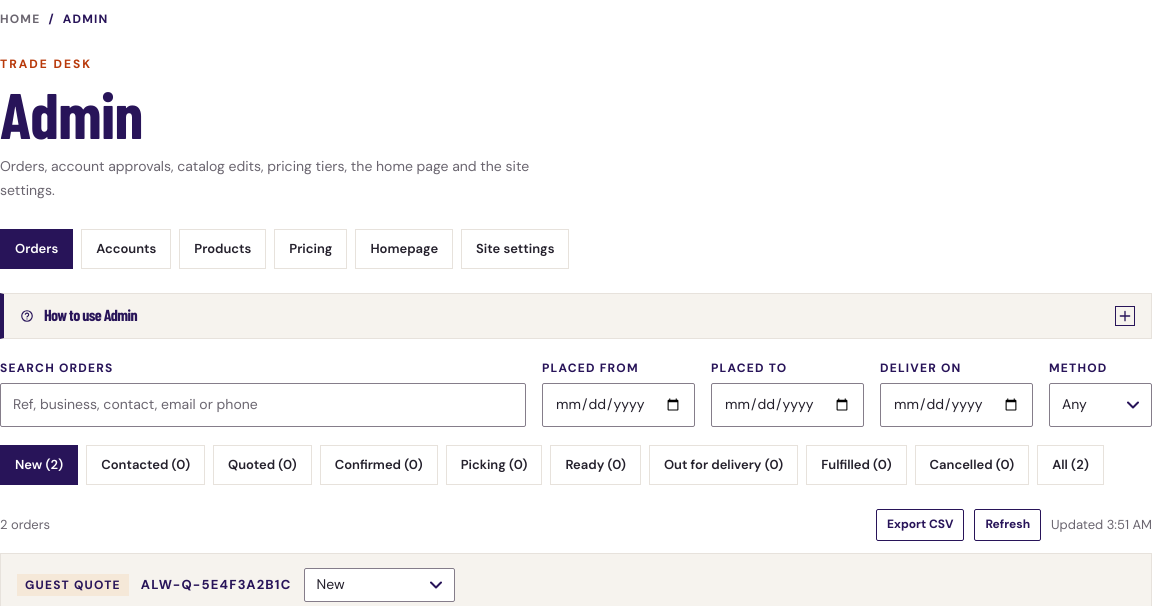
Admin orders with the quote workflow › says why a save was refused, and keeps the editor open
The image size is (1152, 606).
Click the button "All (2)" at point(1070, 465), box [1037,445,1104,485]
(page scrolled)
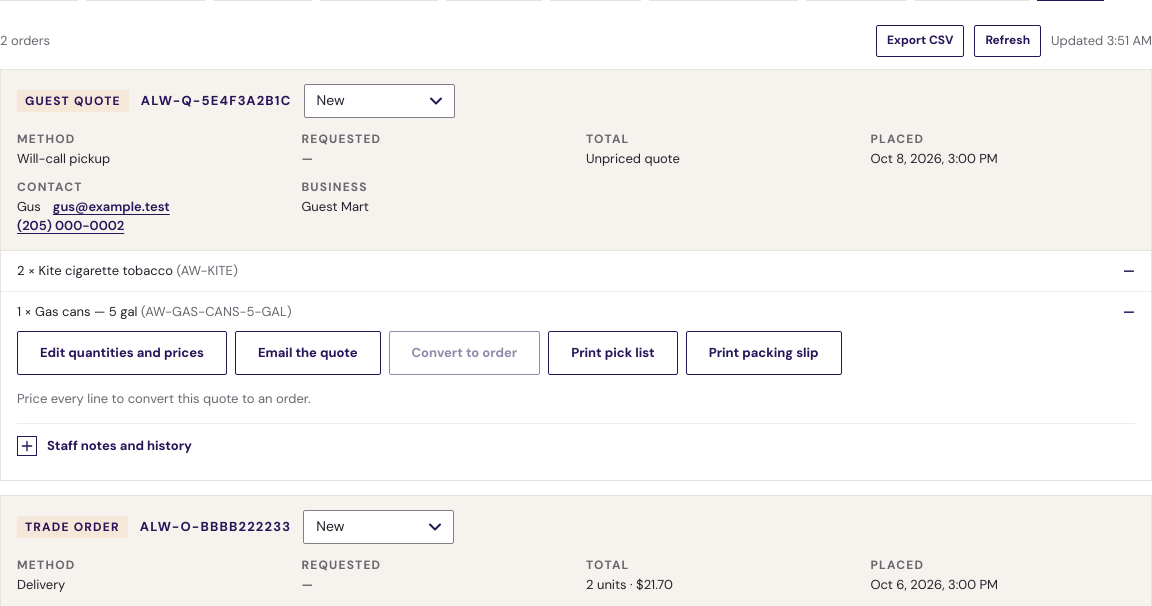
Click the button "Edit quantities and prices" at point(122, 353), box [17,331,227,375]
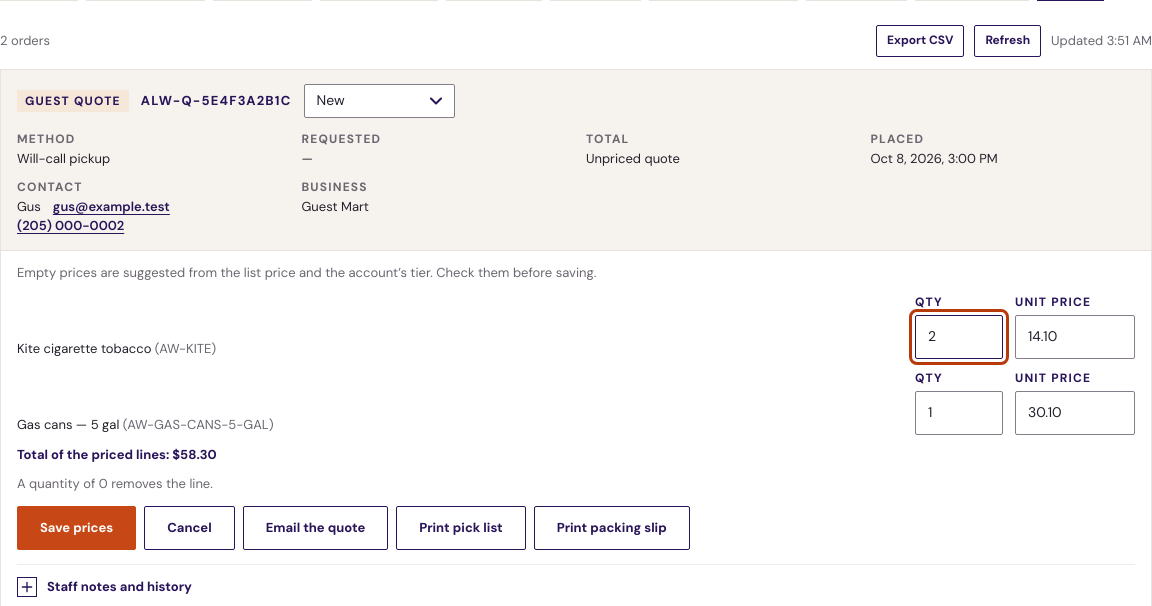
Replace the text in the field named "Quantity for Kite cigarette tobacco" with "two" at point(959, 337), box [915,315,1003,359]
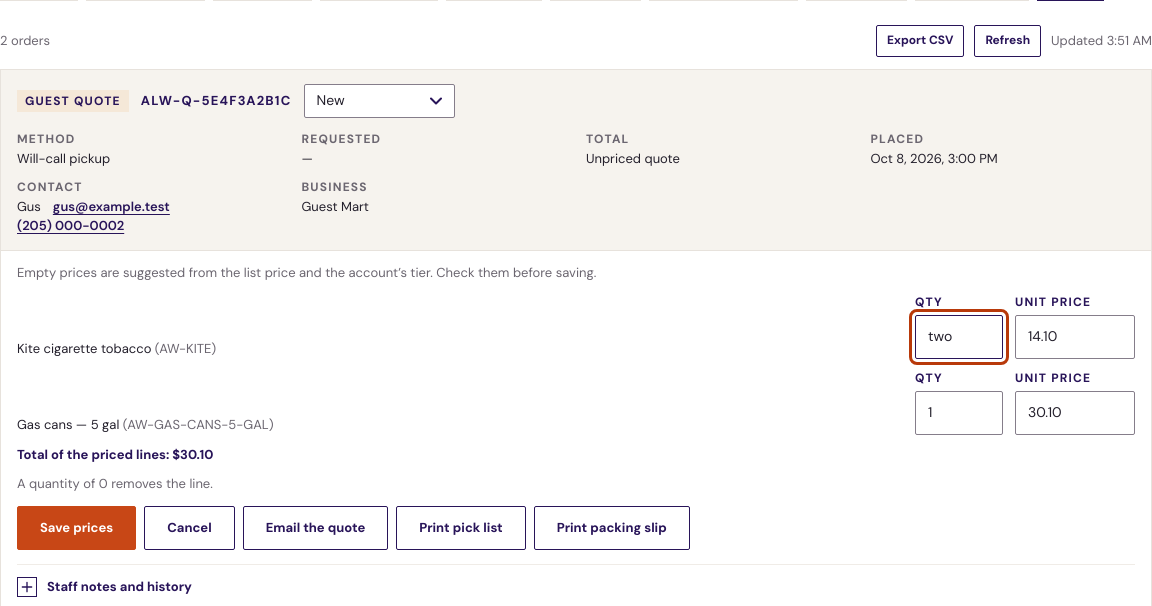
Click the button "Save prices" at point(77, 528), box [17,506,136,550]
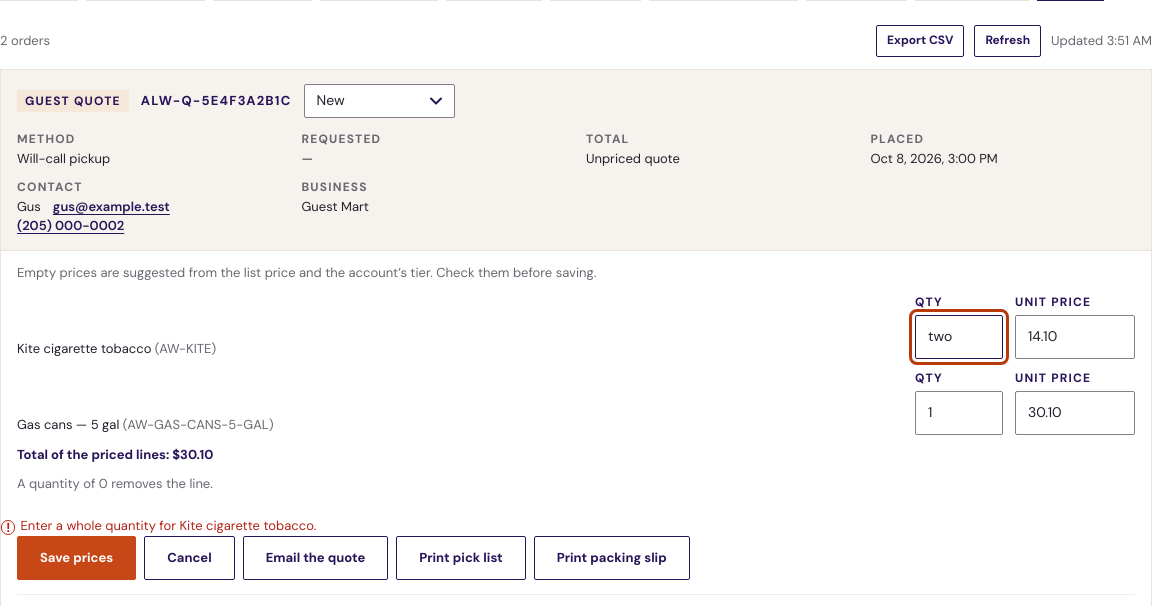
Expected: the message reads "Enter a whole quantity for Kite cigarette tobacco.", [20,517,316,534]
Replace the text in the field named "Quantity for Kite cigarette tobacco" with "2" at point(959, 337), box [915,315,1003,359]
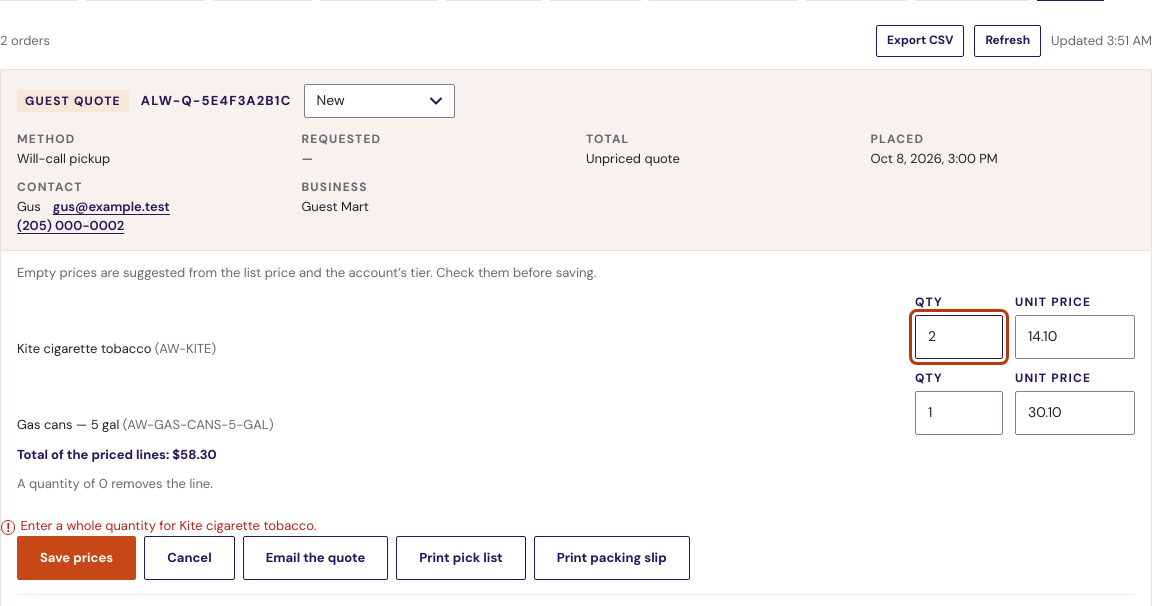
Click the button "Save prices" at point(77, 558), box [17,536,136,580]
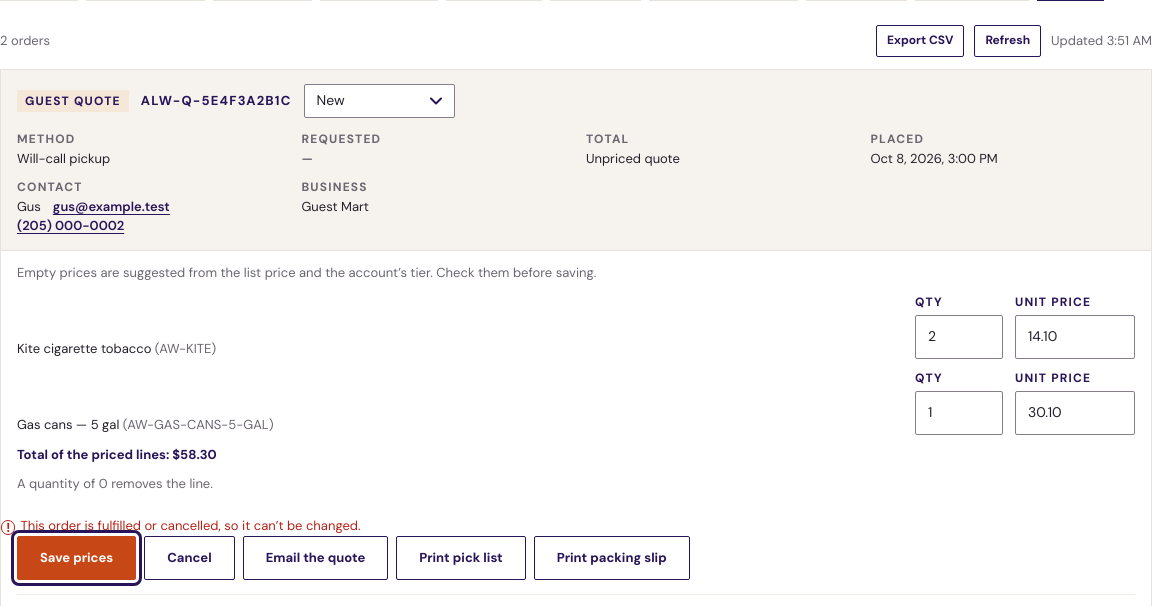
Expected: the message reads "This order is fulfilled or cancelled, so it can’t be changed.", [20,517,360,534]
